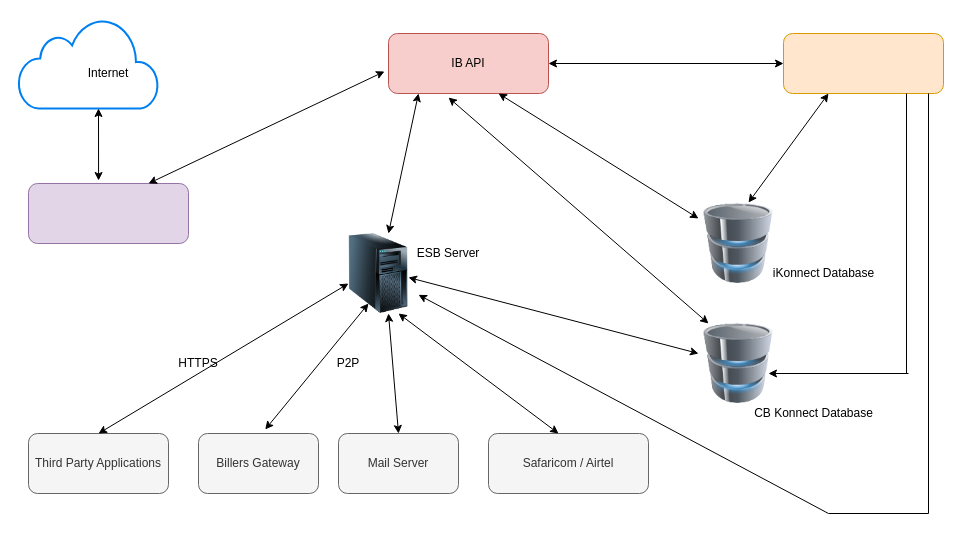
The diagram is 961 pixels wide and 539 high, and some of its shapes have lost their labels. Here are the shapes that lost their labels. From the top down, the box of each, then its label:
(782, 32, 944, 94): IB Admin Portal Application
(28, 182, 188, 244): IB Customer Application
